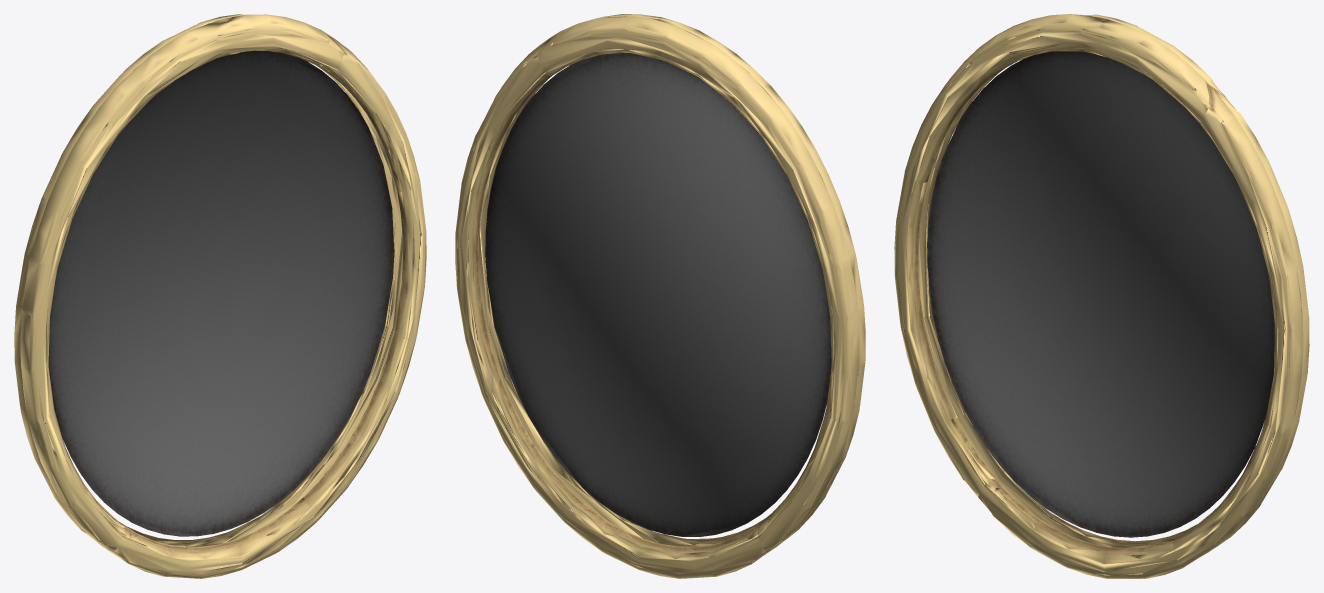
File: haunted_mirror.glb
3 views of the same model, side by side, from view 1: azimuth 30°, elevation 25°; view 2: azimuth 150°, elevation 25°; view 3: azimuth 330°, elevation 25° (orthographic).
Visible parts, largest first — view 1: glass, frame; view 2: glass, frame; view 3: glass, frame.
Boxes of the visible parts, box(x1,y1,x2,y2) form: glass: box(48, 50, 394, 536); frame: box(14, 14, 426, 578); glass: box(485, 53, 831, 536); frame: box(455, 14, 865, 578); glass: box(927, 51, 1274, 537); frame: box(894, 14, 1309, 578).
Size of the model in its own units: 0.251 by 0.33 by 0.021.
Materials: 2 (2 with a texture image).
